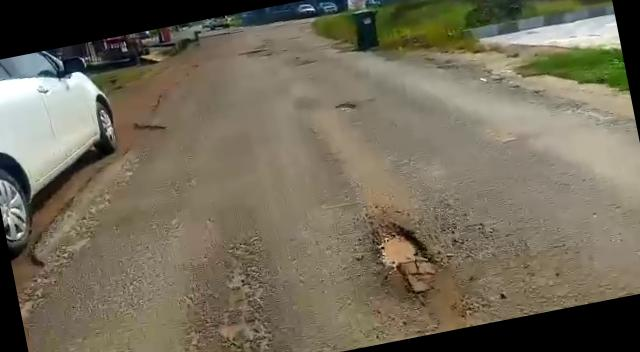pothole: (359, 214, 450, 304), (334, 100, 357, 114)
